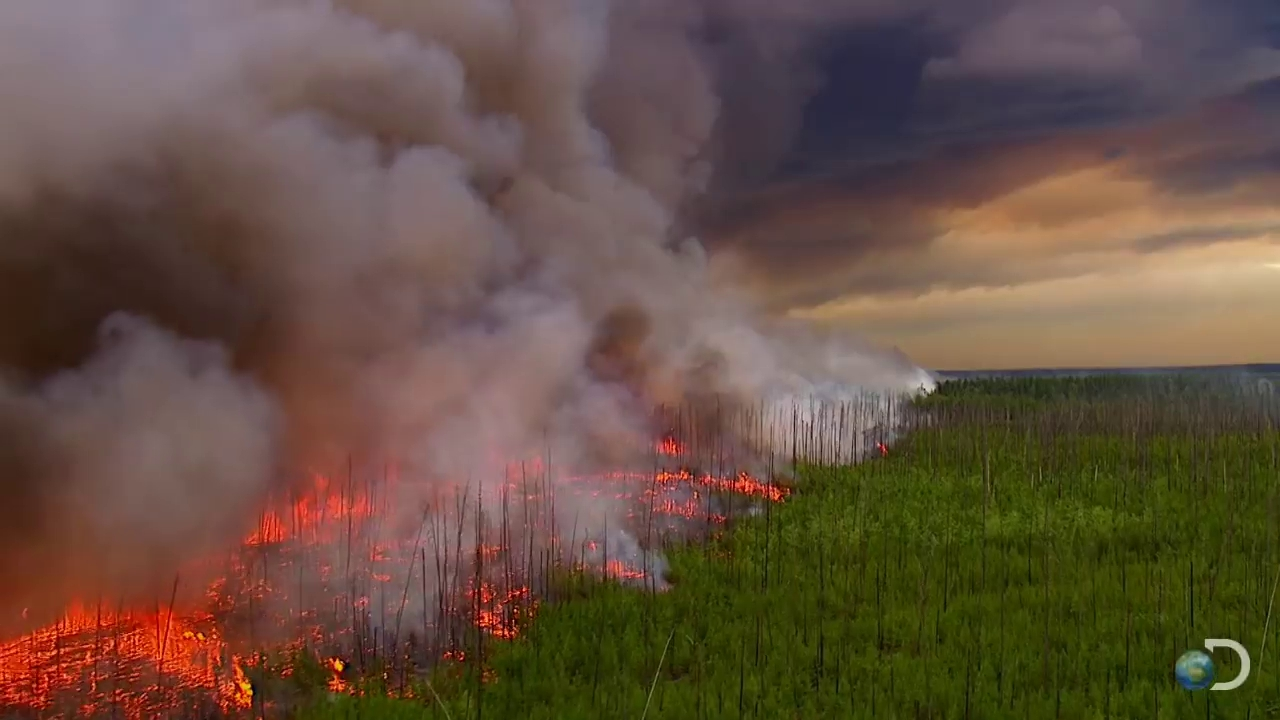forest_fire: (0, 436, 786, 716), (616, 527, 624, 531), (416, 490, 419, 495)
